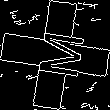M_W: (26, 28, 84, 82)
